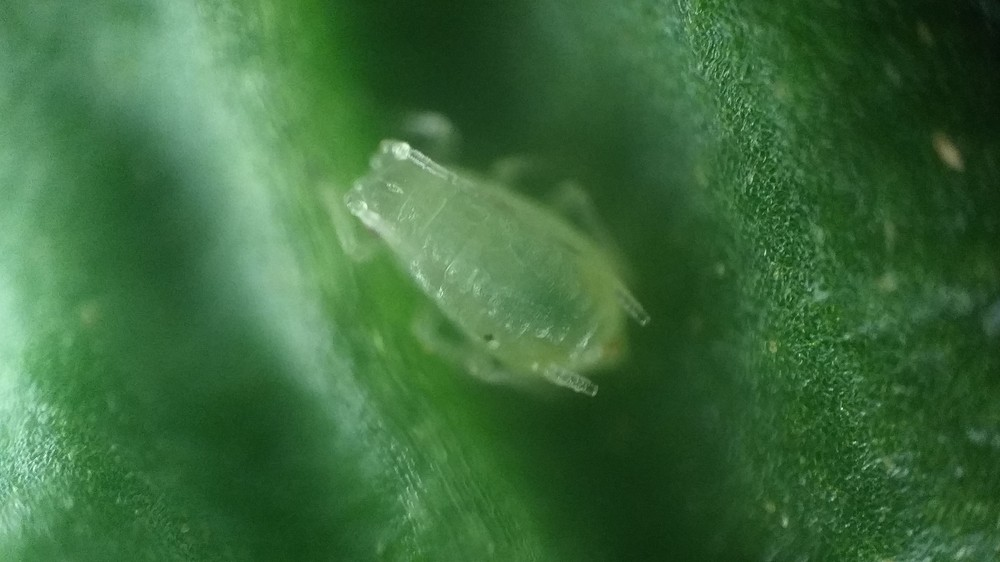Pulgon: (289, 102, 662, 413)
